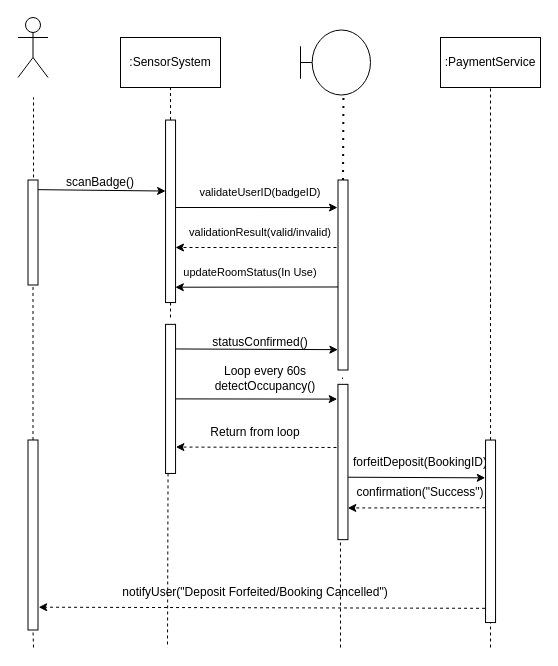
The diagram is 558 pixels wide and 666 high, and some of its shapes have lost their labels. The shapes that lost their labels are listed below. From the top down, each one's centre as x and y in pixels, then its label:
(32,47): User
(335,62): Booking System
